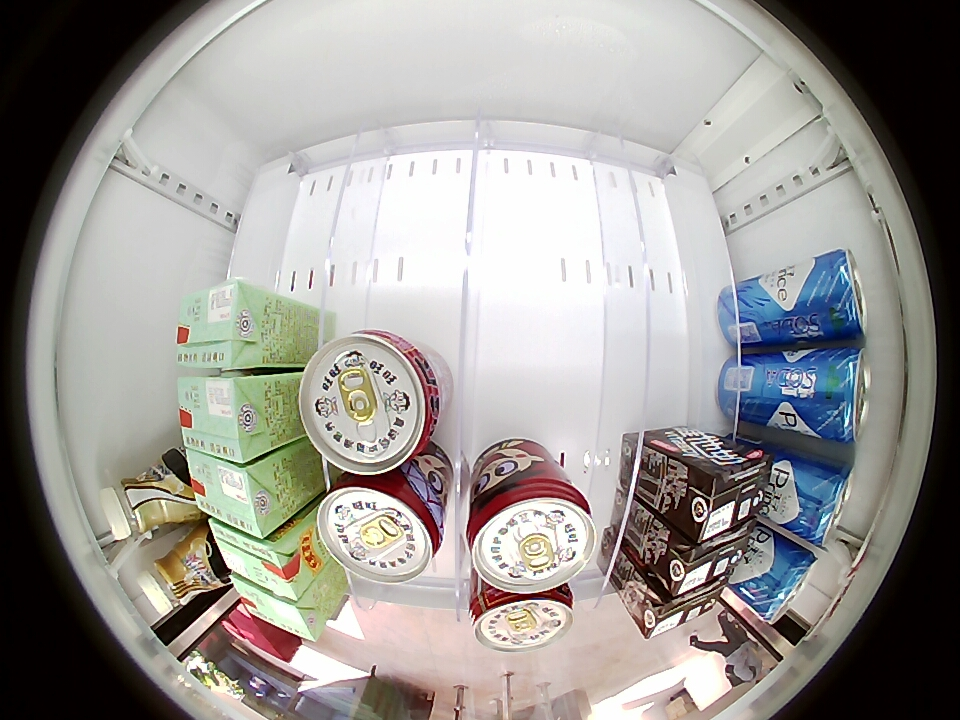kafei: (99, 461, 194, 541), (136, 532, 222, 614)
qingdaowangzi-2: (744, 541, 819, 625), (807, 346, 871, 443), (801, 248, 867, 340), (789, 457, 855, 544)
wanglaoji: (186, 450, 286, 540), (177, 373, 273, 465), (176, 280, 270, 372), (209, 520, 315, 601), (229, 576, 325, 644)
wangzainiunai: (299, 329, 442, 475), (466, 466, 596, 593), (318, 468, 445, 585), (469, 579, 575, 654)
weitanai2: (674, 445, 774, 543), (658, 519, 761, 598), (635, 575, 731, 642)
